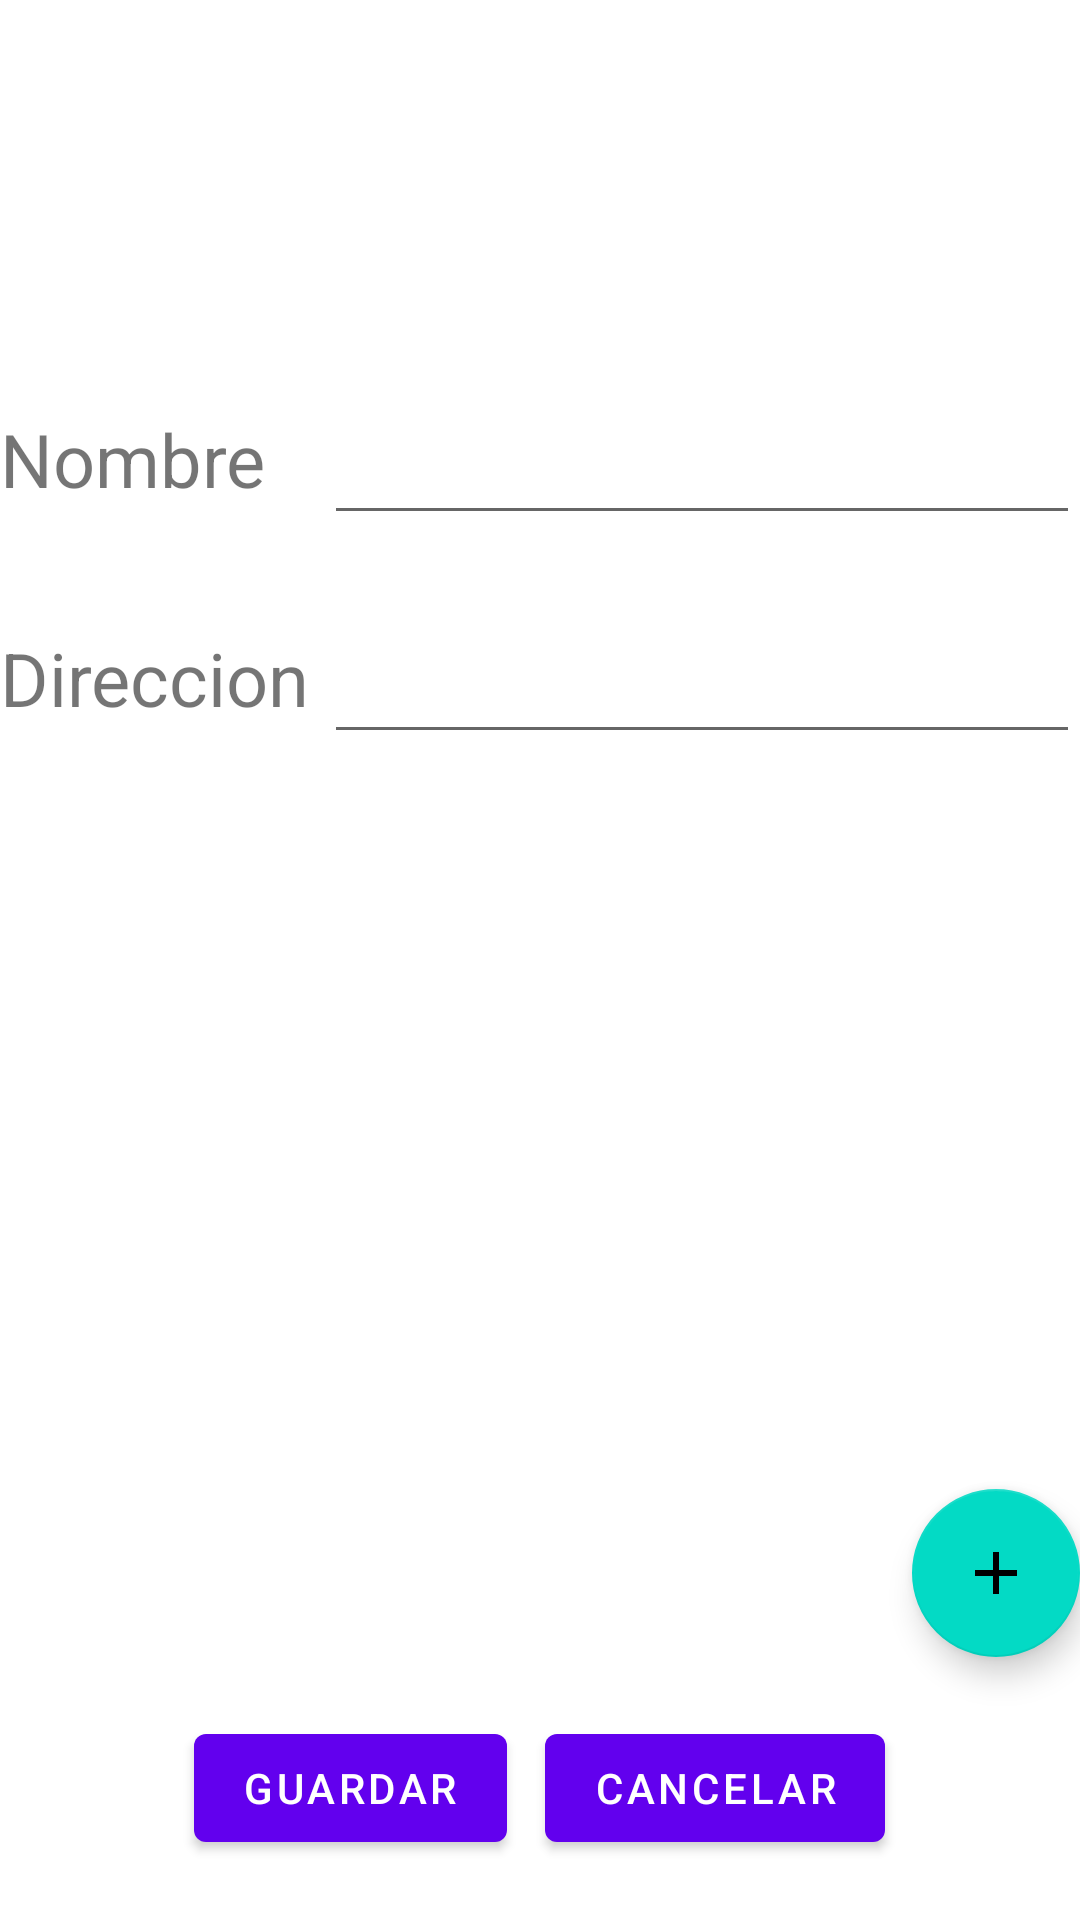

Point at icon controls on the screen. Image size 1080 × 1920, points as (x=x, y=y).
add: (x=996, y=1573)
